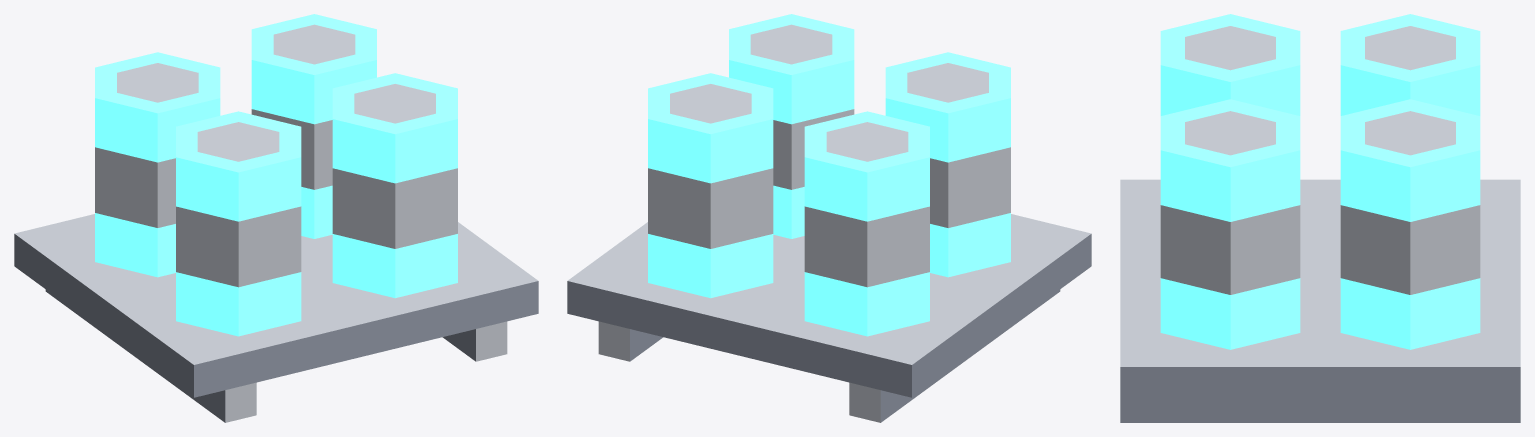
File: barrels.glb
The picture shows the model from 3 angles, left to right: view 1: azimuth 30°, elevation 25°; view 2: azimuth 150°, elevation 25°; view 3: azimuth 270°, elevation 25°; orthographic projection. The views are drawn at different scales.
Visible parts, largest first — view 1: barrel (×4), barrels; view 2: barrel (×4), barrels; view 3: barrel (×4), barrels.
Part boxes in pixels (x1=…): barrel (×4): x1=95, y1=14, x2=457, y2=336; barrels: x1=14, y1=214, x2=538, y2=422; barrel (×4): x1=648, y1=14, x2=1010, y2=336; barrels: x1=567, y1=214, x2=1091, y2=422; barrel (×4): x1=1160, y1=14, x2=1480, y2=349; barrels: x1=1120, y1=179, x2=1520, y2=422.
Bounding box in the file's own units: 0.55 × 0.35 × 0.4964.
